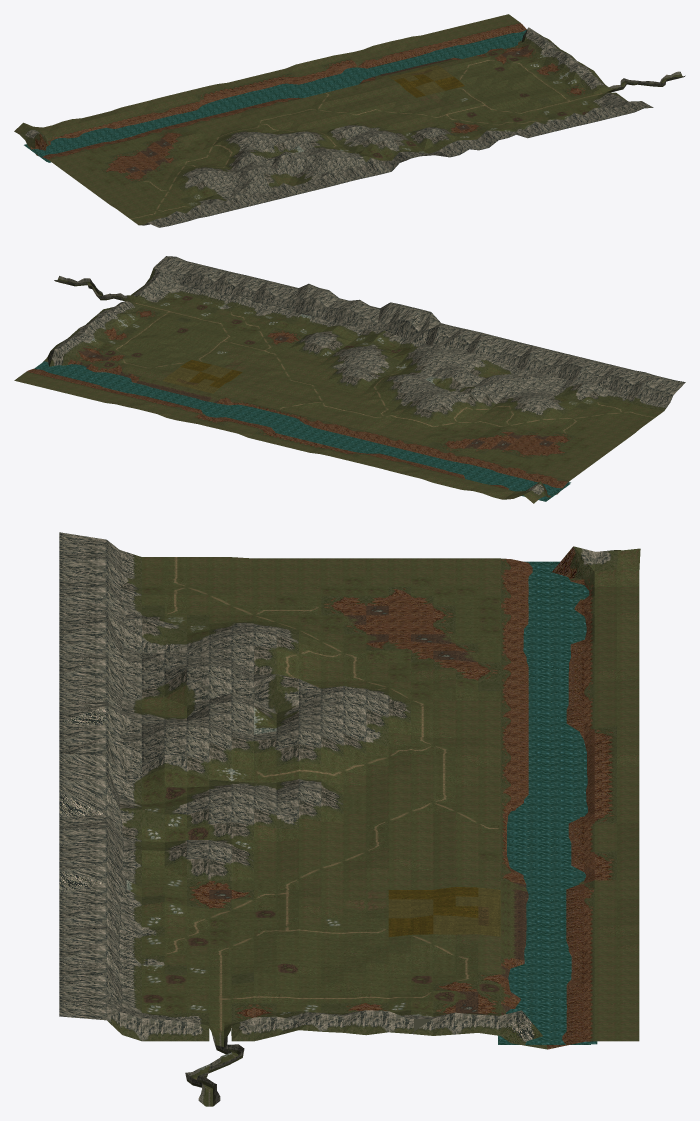
The model's file is WestKarana.fbx.
The picture shows the model from 3 angles, top to bottom: view 1: azimuth 30°, elevation 25°; view 2: azimuth 150°, elevation 25°; view 3: azimuth 270°, elevation 25°; orthographic projection. The views are drawn at different scales.
Visible parts, largest first — view 1: zone, zoneLineToNorthKarana; view 2: zone, zoneLineToNorthKarana; view 3: zone, zoneLineToNorthKarana.
Part boxes in pixels (bbox=[...]): zone: bbox=[14, 14, 685, 227]; zoneLineToNorthKarana: bbox=[24, 132, 177, 227]; zone: bbox=[14, 256, 685, 503]; zoneLineToNorthKarana: bbox=[525, 378, 685, 501]; zone: bbox=[59, 532, 640, 1106]; zoneLineToNorthKarana: bbox=[60, 532, 598, 581].
Bounding box in the file's own units: 17969 × 766 × 8034.
